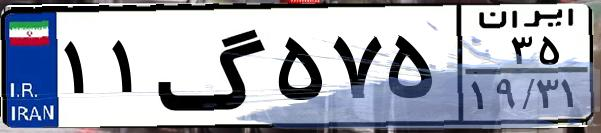1: (57, 26, 110, 100), (110, 28, 156, 98), (560, 70, 590, 125), (470, 70, 495, 125)
3: (508, 27, 537, 80), (535, 70, 560, 125)
5: (270, 28, 330, 110), (385, 28, 445, 110), (537, 27, 568, 80)
7: (330, 28, 385, 110)
9: (495, 70, 520, 125)
گ: (156, 12, 270, 120)
